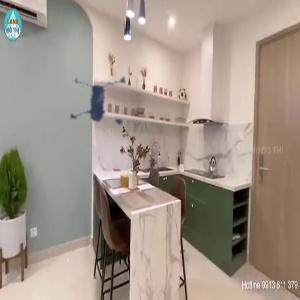drone: (58, 58, 157, 157)
